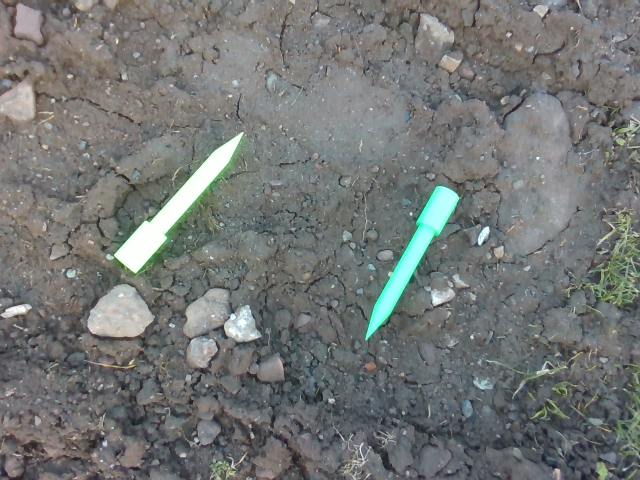Probe: (110, 125, 247, 281), (357, 176, 463, 349)
